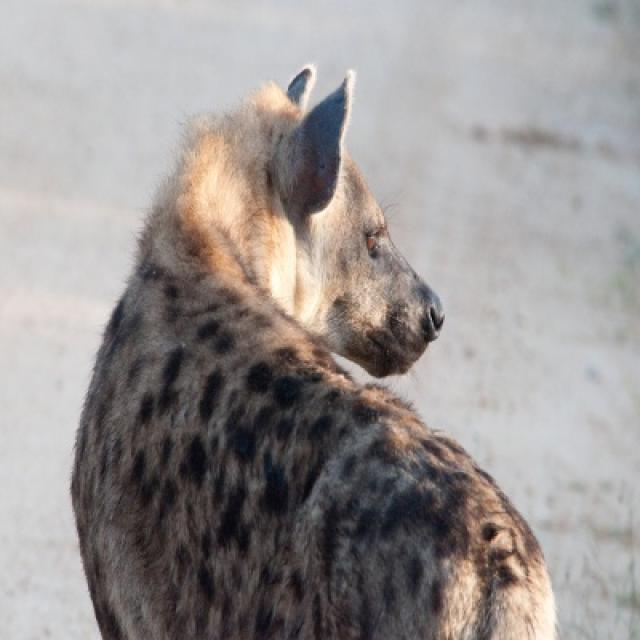hyena: (69, 64, 558, 638)
